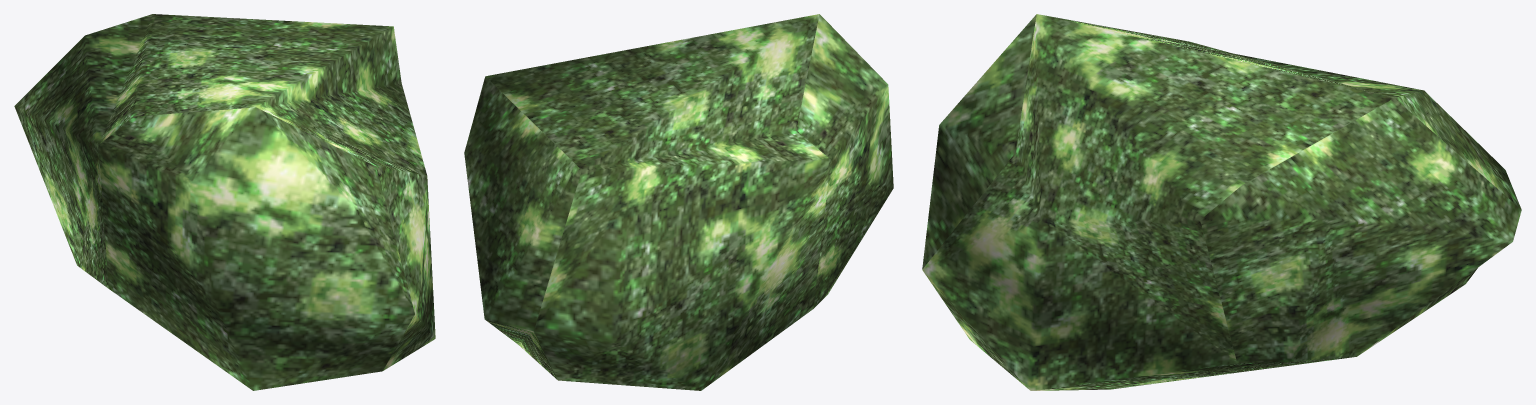
File: asteroid_acid_radial_s02_l2.fbx
3 renders of one model, left to right at view 1: azimuth 30°, elevation 25°; view 2: azimuth 150°, elevation 25°; view 3: azimuth 270°, elevation 25°, orthographic. The views are drawn at different scales.
Visible parts, largest first — view 1: mesh_node; view 2: mesh_node; view 3: mesh_node.
Part boxes in pixels (x1=…): mesh_node: x1=14, y1=14, x2=435, y2=390; mesh_node: x1=464, y1=14, x2=893, y2=390; mesh_node: x1=922, y1=14, x2=1521, y2=390.
Size of the model in its own units: 4.28 by 3.89 by 6.61.
Materials: 1 (1 with a texture image).
